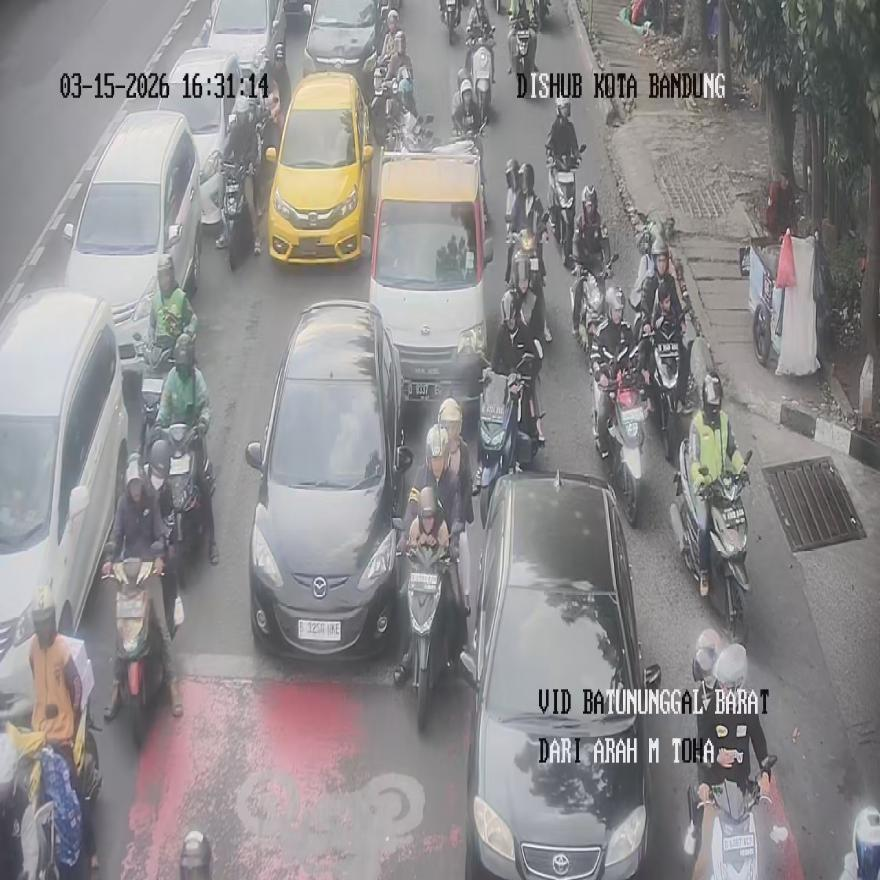Motor: (460, 470, 662, 878), (245, 300, 412, 656), (0, 288, 129, 731), (63, 110, 201, 384), (366, 134, 492, 404), (264, 71, 373, 264), (199, 0, 287, 106)
Truk: (671, 452, 749, 647), (394, 517, 465, 730), (103, 548, 173, 744), (685, 755, 781, 880), (477, 354, 545, 530), (148, 423, 214, 585), (590, 346, 646, 524), (640, 319, 686, 467), (506, 212, 550, 354), (138, 334, 176, 464), (571, 253, 616, 359), (548, 144, 584, 270), (220, 160, 256, 268), (374, 60, 415, 150), (839, 805, 879, 879), (451, 66, 481, 139), (467, 41, 493, 124), (509, 22, 537, 98), (439, 0, 461, 44), (531, 0, 549, 29)
